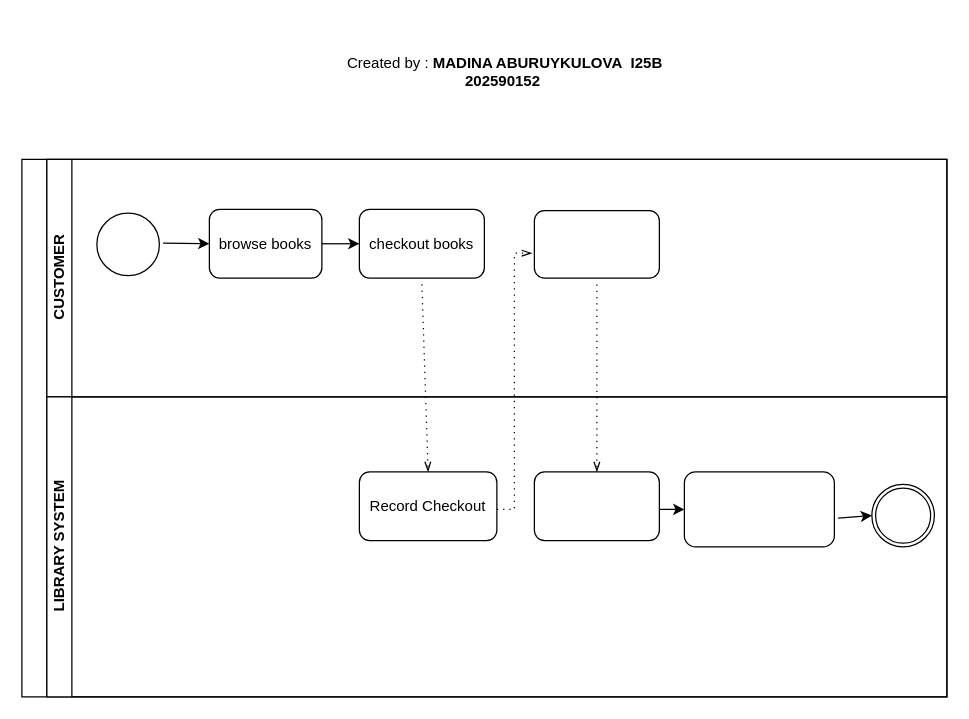
The diagram is 969 pixels wide and 719 high, and some of its shapes have lost their labels. Here are the shapes that lost their labels. From the top down, the centre of each, then its label:
(x=596, y=243): return book
(x=596, y=506): Record return
(x=758, y=509): Update catalog
